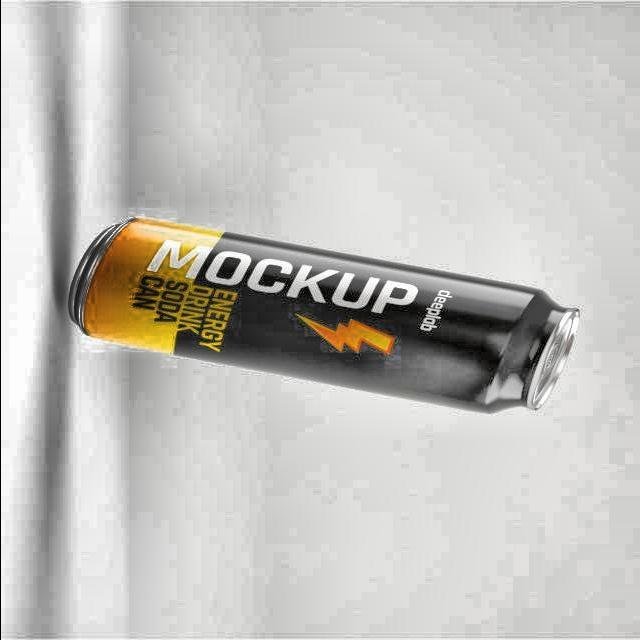litter: (62, 206, 586, 419)
